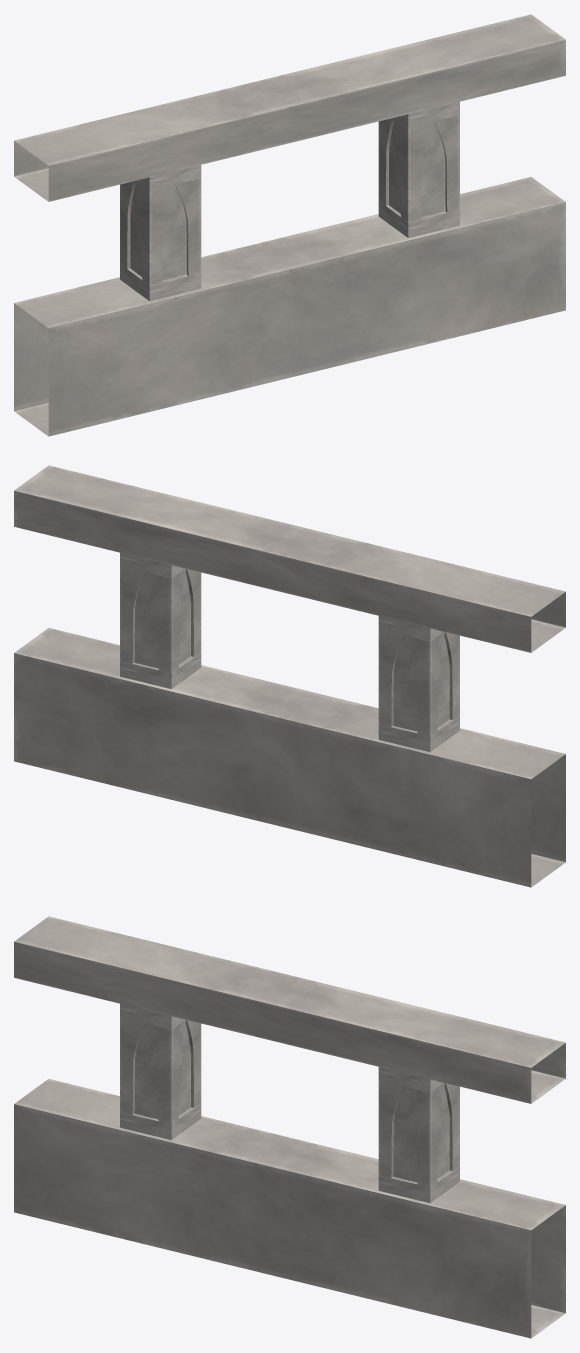
Rendered from GuardRail_B.fbx.
3 views of the same model, one above another, from view 1: azimuth 30°, elevation 25°; view 2: azimuth 150°, elevation 25°; view 3: azimuth 330°, elevation 25° (orthographic).
Parts seen in each view (by area): view 1: GuardRail_B; view 2: GuardRail_B; view 3: GuardRail_B.
Boxes of the visible parts, bbox=[...] form: GuardRail_B: bbox=[14, 14, 565, 436]; GuardRail_B: bbox=[14, 465, 565, 887]; GuardRail_B: bbox=[14, 916, 565, 1338].
Bounding box in the file's own units: 3 × 0.3477 × 1.5.
